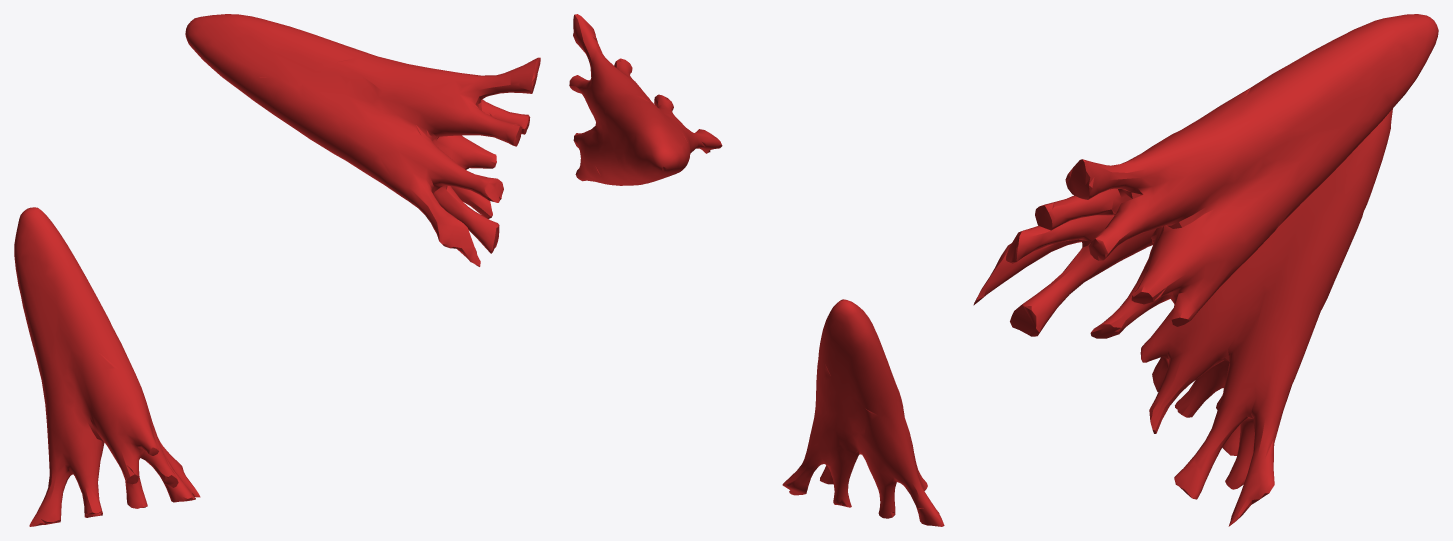
Rendered from bilikKiri.glb.
3 renders of one model, left to right at view 1: azimuth 30°, elevation 25°; view 2: azimuth 150°, elevation 25°; view 3: azimuth 270°, elevation 25°, orthographic. The views are drawn at different scales.
Parts seen in each view (by area): view 1: MM637_BP51813_FMA7266_Posterior papillary muscle of left ven; view 2: MM637_BP51813_FMA7266_Posterior papillary muscle of left ven; view 3: MM637_BP51813_FMA7266_Posterior papillary muscle of left ven.
Boxes of the visible parts, <box> form: MM637_BP51813_FMA7266_Posterior papillary muscle of left ven: <box>14,14,540,526</box>; MM637_BP51813_FMA7266_Posterior papillary muscle of left ven: <box>569,14,944,526</box>; MM637_BP51813_FMA7266_Posterior papillary muscle of left ven: <box>973,14,1438,526</box>.
Size of the model in its own units: 0.0446 by 0.039 by 0.029.
